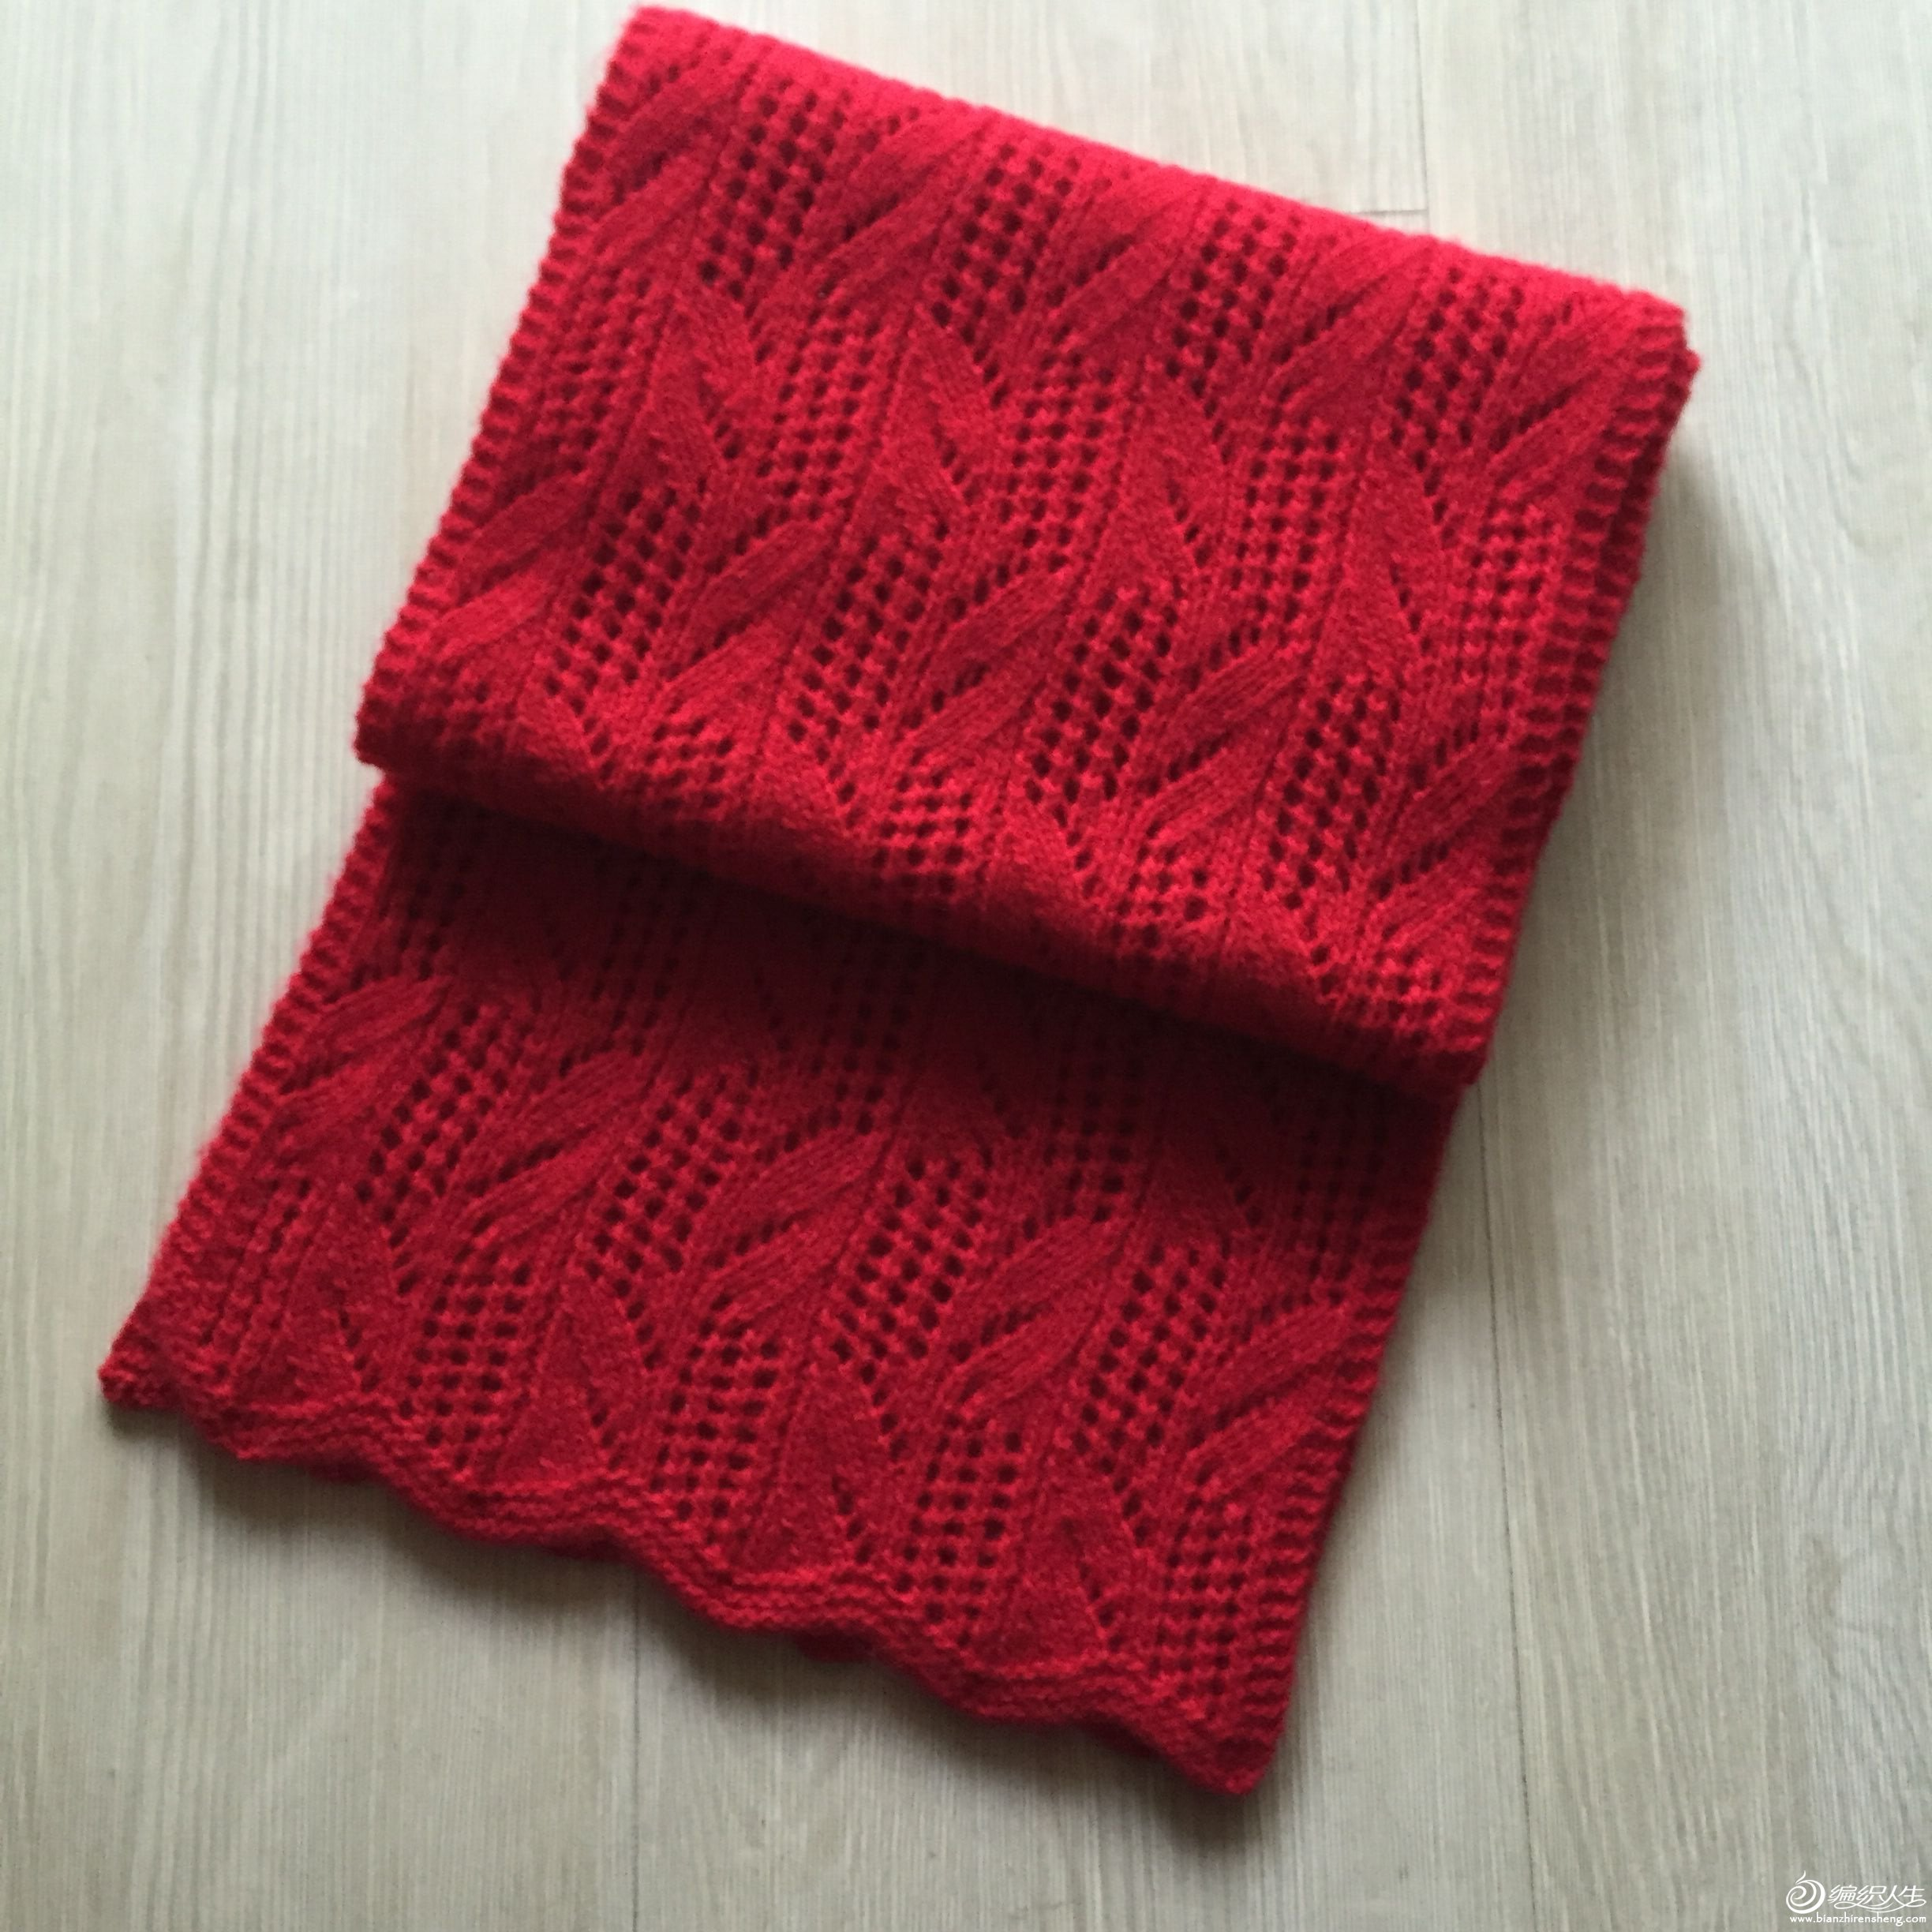flexible: (78, 0, 1697, 1822)
